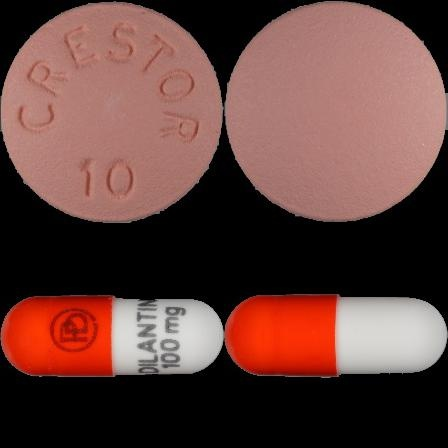49999-873: (0, 0, 224, 224)
